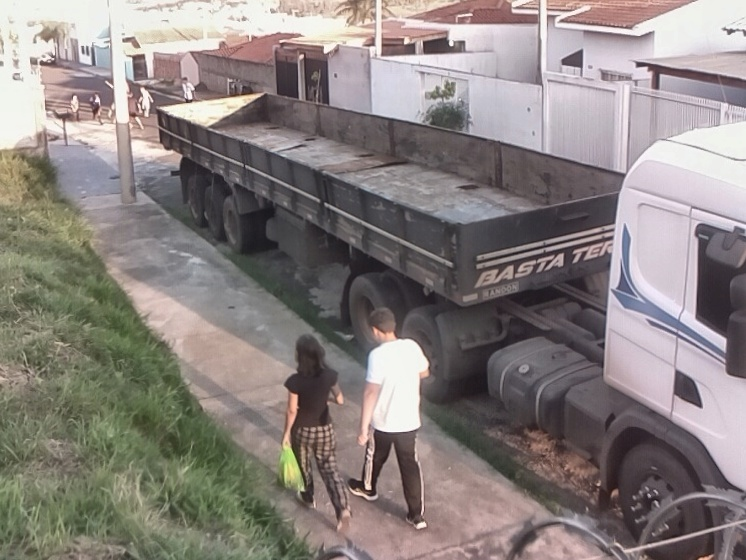person: (346, 305, 436, 531), (279, 333, 353, 536), (125, 92, 146, 131), (87, 92, 107, 126), (139, 85, 156, 119), (179, 75, 198, 103), (68, 93, 84, 124)
